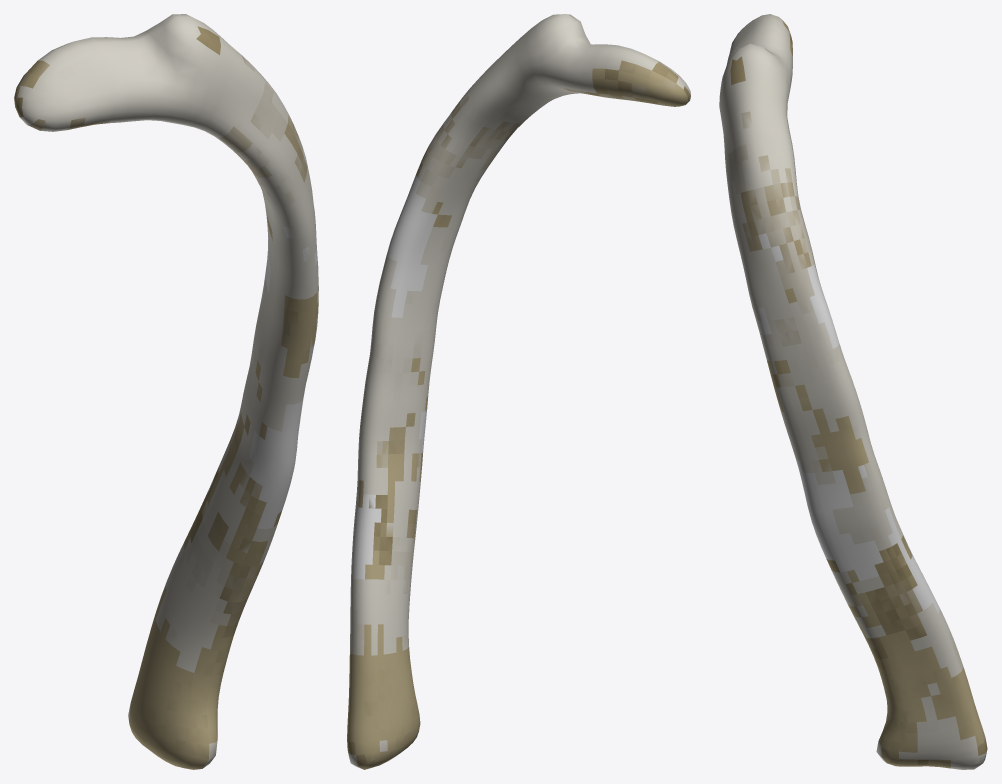
The model's file is Rib L02.fbx.
The picture shows the model from 3 angles, left to right: view 1: azimuth 30°, elevation 25°; view 2: azimuth 150°, elevation 25°; view 3: azimuth 270°, elevation 25°; orthographic projection. The views are drawn at different scales.
Visible parts, largest first — view 1: Rib L02; view 2: Rib L02; view 3: Rib L02.
Boxes of the visible parts, x1,y1,x2,y2 form: Rib L02: (14,14,318,769); Rib L02: (347,14,690,769); Rib L02: (719,14,987,769).
Size of the model in its own units: 6.54 by 16.07 by 5.73.
